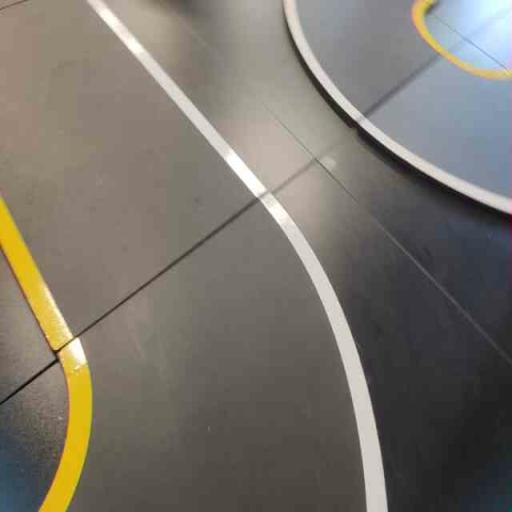left: (33, 170, 427, 511)
